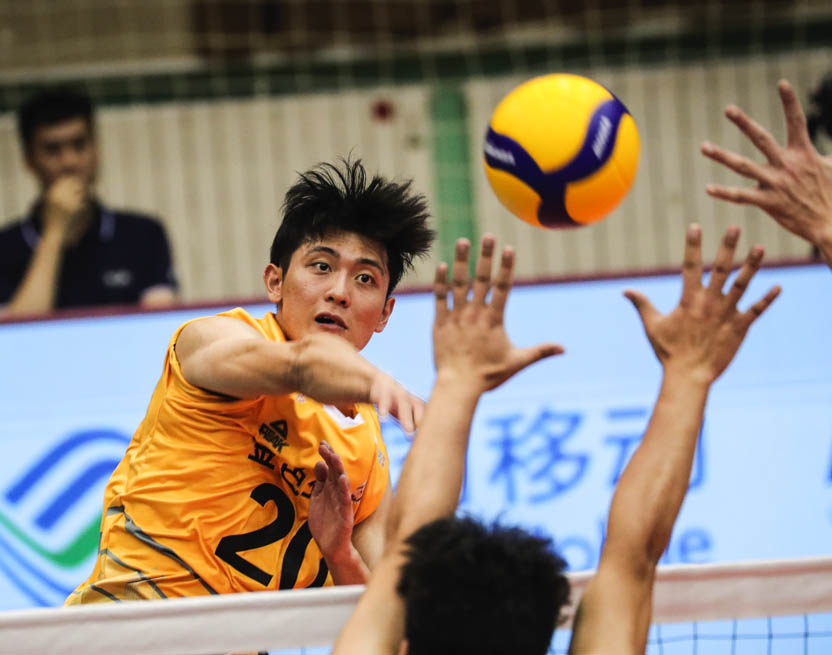ball: (483, 74, 642, 229)
